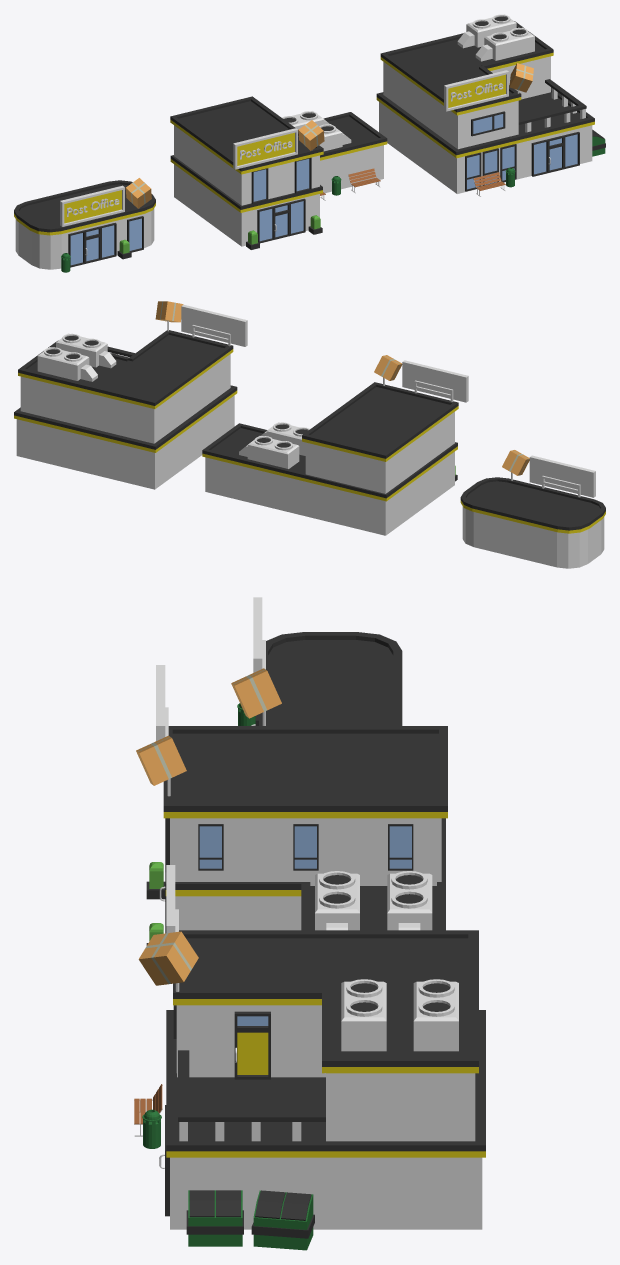
The model's file is postoffice.fbx.
3 views of the same model, one above another, from view 1: azimuth 30°, elevation 25°; view 2: azimuth 150°, elevation 25°; view 3: azimuth 270°, elevation 25° (orthographic). The views are drawn at different scales.
Visible parts, largest first — view 1: post_t3, post_t2, post_t1; view 2: post_t3, post_t2, post_t1; view 3: post_t3, post_t2, post_t1.
Boxes of the visible parts, x1=… form: post_t3: x1=376, y1=14, x2=605, y2=196; post_t2: x1=170, y1=96, x2=387, y2=249; post_t1: x1=14, y1=178, x2=155, y2=272; post_t3: x1=14, y1=301, x2=247, y2=489; post_t2: x1=202, y1=355, x2=468, y2=535; post_t1: x1=460, y1=450, x2=605, y2=568; post_t3: x1=134, y1=865, x2=485, y2=1250; post_t2: x1=136, y1=665, x2=447, y2=945; post_t1: x1=231, y1=597, x2=402, y2=725.
Bounding box in the file's own units: 2811 × 555 × 778.
